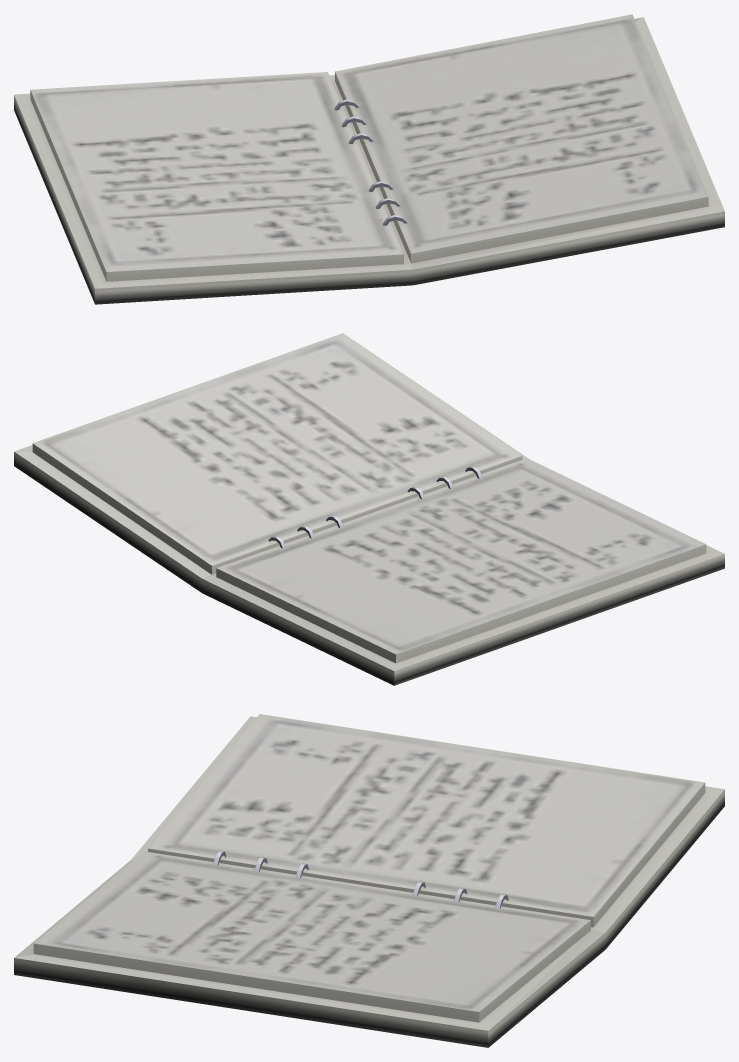
File: ShenMiRenJia_01_bijiben_01.FBX
3 renders of one model, top to bottom at view 1: azimuth 30°, elevation 25°; view 2: azimuth 150°, elevation 25°; view 3: azimuth 270°, elevation 25°, orthographic. The views are drawn at different scales.
Parts seen in each view (by area): view 1: ShenMiRenJia_01_bijiben_01; view 2: ShenMiRenJia_01_bijiben_01; view 3: ShenMiRenJia_01_bijiben_01.
Boxes of the visible parts, box(x1,y1,x2,y2) form: ShenMiRenJia_01_bijiben_01: box(14, 14, 724, 304); ShenMiRenJia_01_bijiben_01: box(14, 333, 724, 685); ShenMiRenJia_01_bijiben_01: box(14, 714, 724, 1047).
Size of the model in its own units: 236 by 20.71 by 204.
